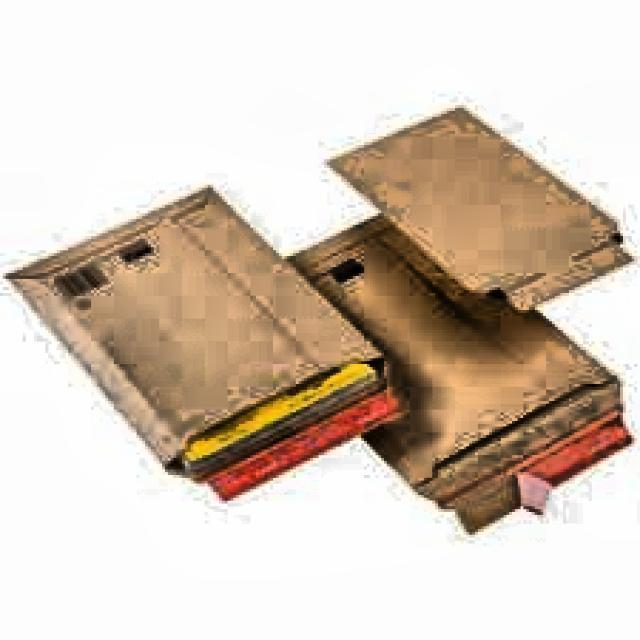cardboard: (3, 179, 404, 498), (284, 208, 632, 532), (324, 102, 632, 313)
